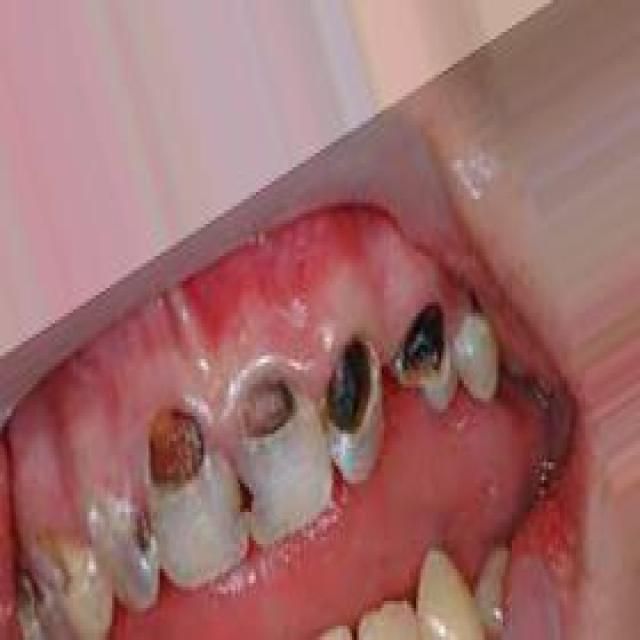caries: (146, 396, 237, 591), (237, 368, 322, 542), (322, 329, 388, 482), (393, 298, 457, 423), (97, 494, 162, 614), (38, 526, 102, 635)
